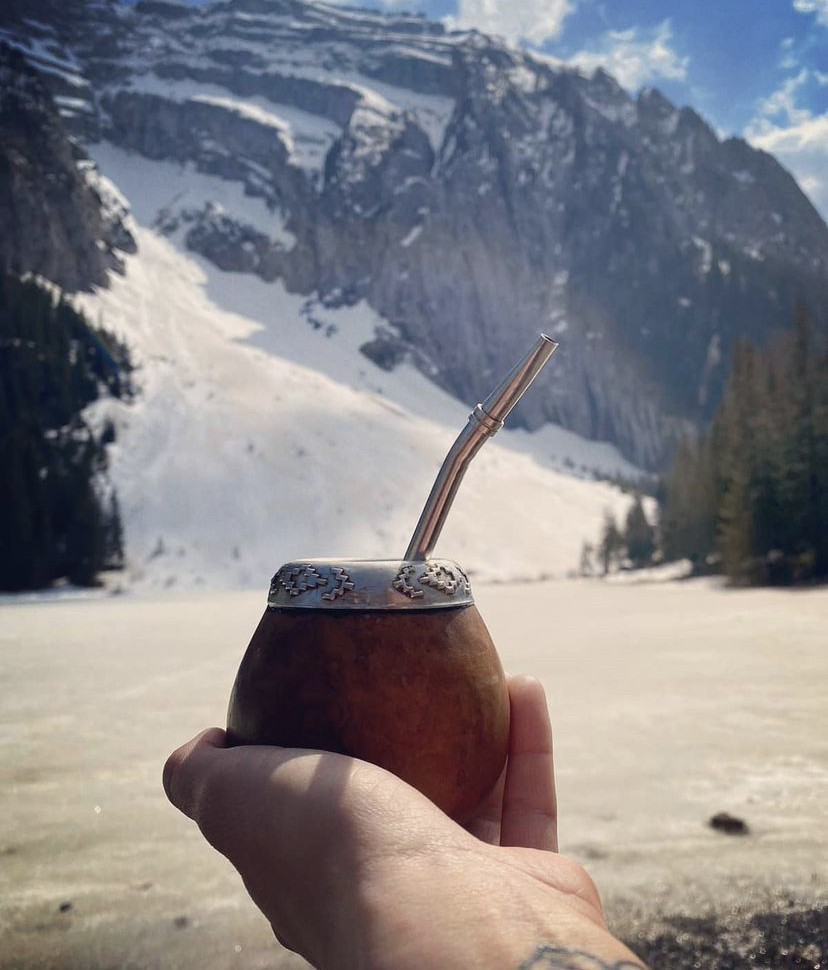calabaza: (210, 531, 526, 822)
mate: (195, 296, 565, 849), (209, 536, 522, 829)
